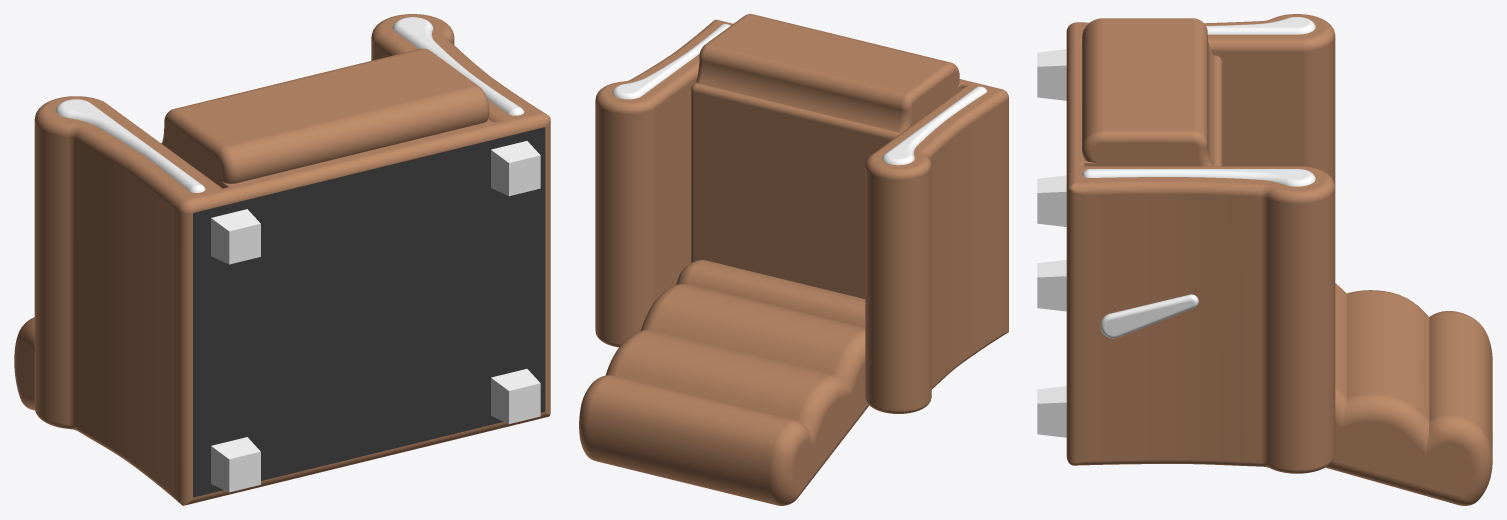
File: lazy_boy_recliner.dae
3 views of the same model, side by side, from view 1: azimuth 30°, elevation 25°; view 2: azimuth 150°, elevation 25°; view 3: azimuth 270°, elevation 25° (orthographic). The views are drawn at different scales.
Visible parts, largest first — view 1: Lazy-boy_recliner (×5); view 2: Lazy-boy_recliner; view 3: Lazy-boy_recliner (×5).
Part boxes in pixels (left/top/right/bottom): Lazy-boy_recliner (×5): left=14, top=14, right=550, bottom=505; Lazy-boy_recliner: left=579, top=14, right=1008, bottom=505; Lazy-boy_recliner (×5): left=1037, top=14, right=1492, bottom=505.
Bounding box in the file's own units: 1138 × 1188 × 1087.
